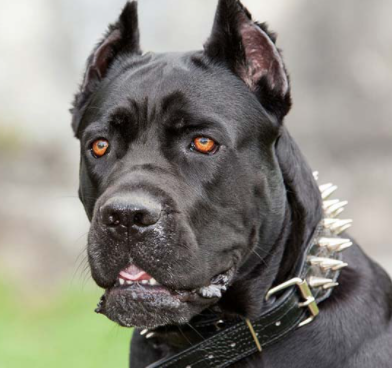dog: (66, 1, 392, 368)
